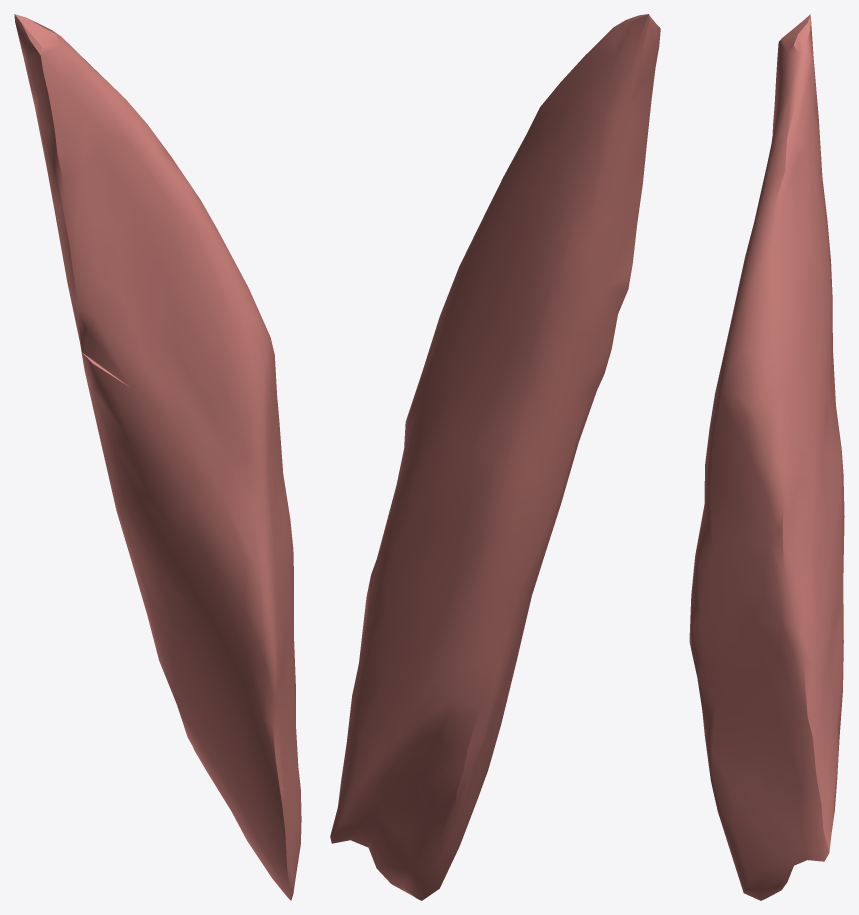
File: fma40695-n_mm1814m.glb
The picture shows the model from 3 angles, left to right: view 1: azimuth 30°, elevation 25°; view 2: azimuth 150°, elevation 25°; view 3: azimuth 270°, elevation 25°; orthographic projection. The views are drawn at different scales.
Visible parts, largest first — view 1: FMA40695-N_MM1814M; view 2: FMA40695-N_MM1814M; view 3: FMA40695-N_MM1814M.
Boxes of the visible parts, x1=… form: FMA40695-N_MM1814M: x1=14, y1=14, x2=301, y2=900; FMA40695-N_MM1814M: x1=330, y1=14, x2=660, y2=900; FMA40695-N_MM1814M: x1=689, y1=14, x2=844, y2=900.
Size of the model in its own units: 0.0198 by 0.0596 by 0.0107.
